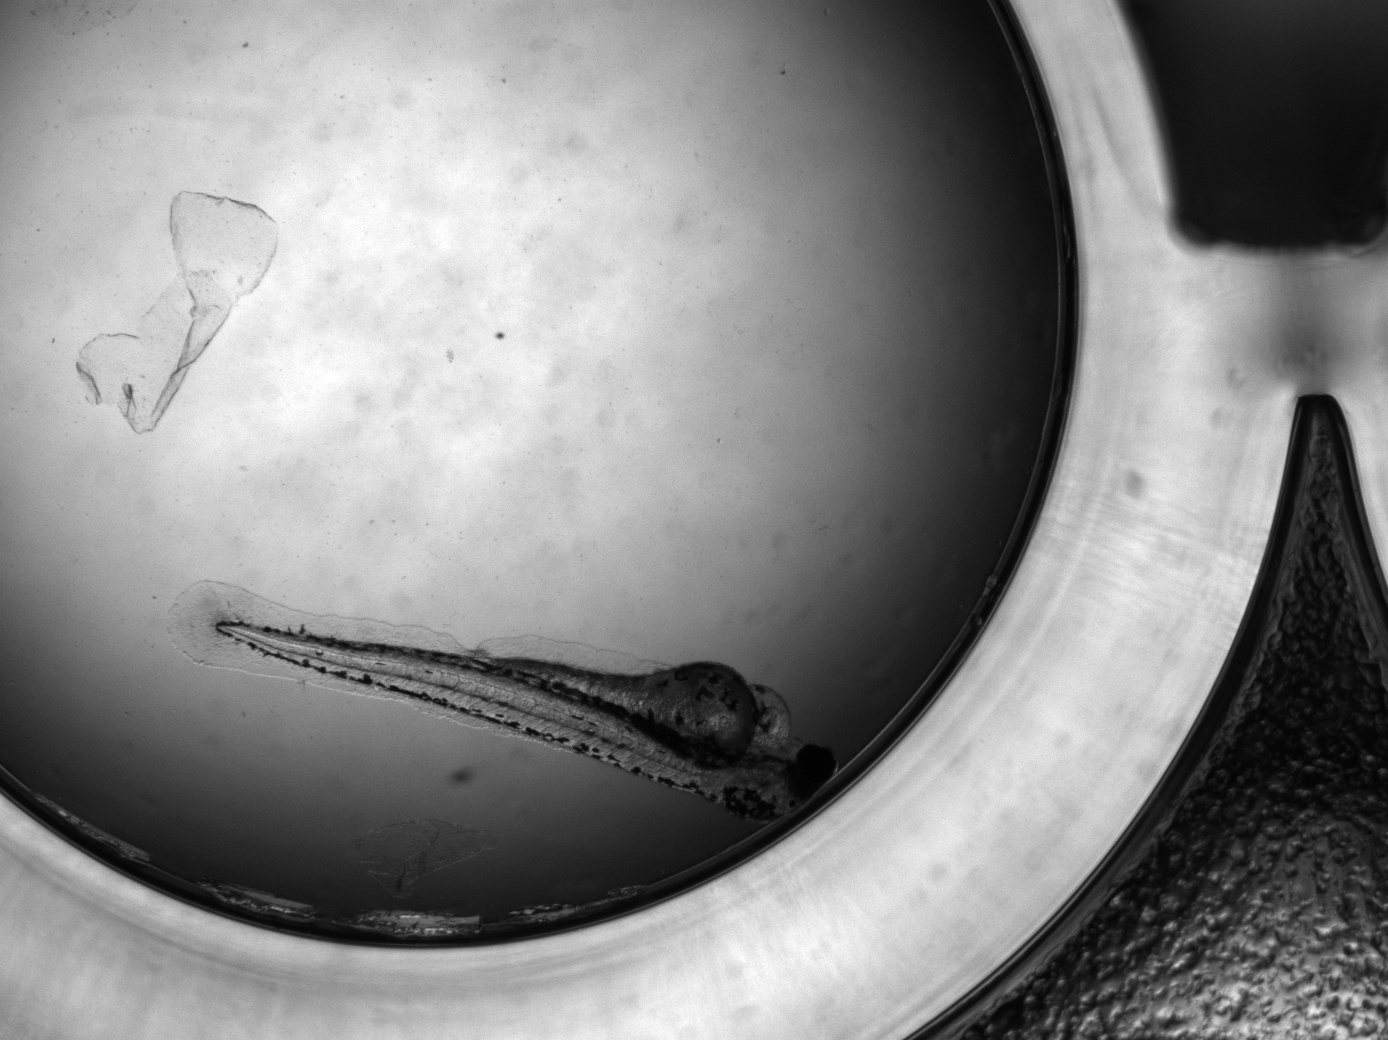debris: (73, 190, 276, 433)
embryo: (216, 621, 838, 826)
eye: (786, 743, 837, 797)
yolksac: (534, 662, 793, 765)
